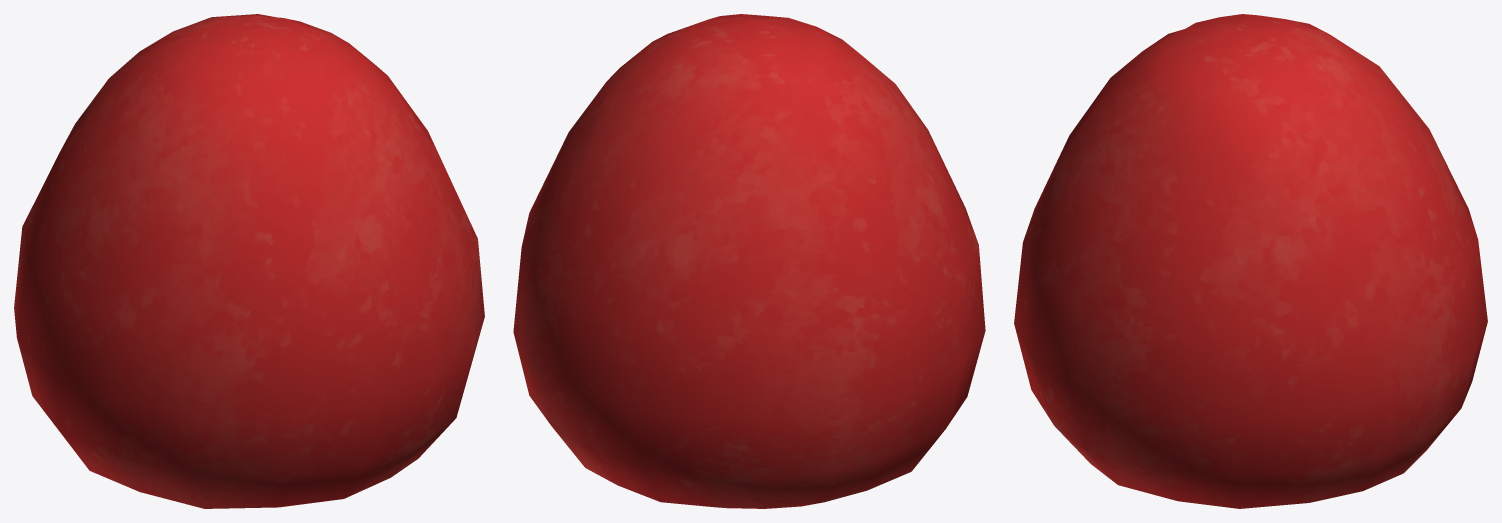
Rendered from strawberrymaturepaint.glb.
3 views of the same model, side by side, from view 1: azimuth 30°, elevation 25°; view 2: azimuth 150°, elevation 25°; view 3: azimuth 270°, elevation 25° (orthographic).
Parts seen in each view (by area): view 1: strawberrymature_LP; view 2: strawberrymature_LP; view 3: strawberrymature_LP.
Part boxes in pixels (x1,y1,x2,y2): strawberrymature_LP: (14, 14, 484, 508); strawberrymature_LP: (513, 14, 985, 508); strawberrymature_LP: (1014, 14, 1487, 508).
Size of the model in its own units: 0.0511 by 0.0518 by 0.0514.
1 material, 1 textured.
